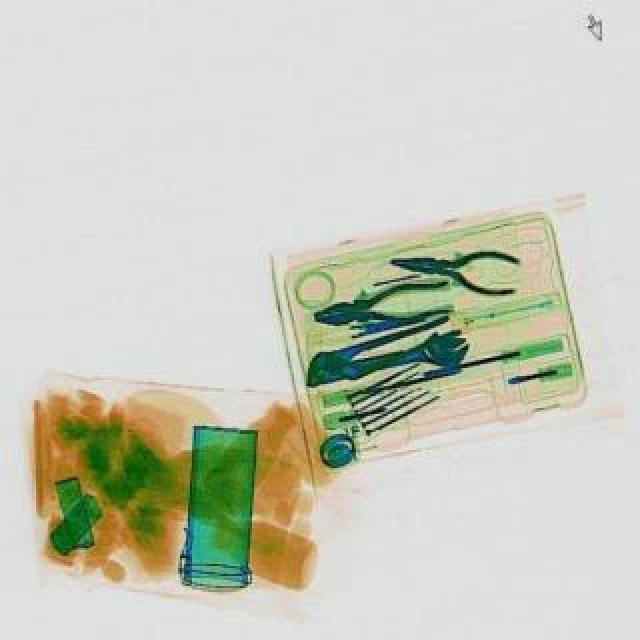scissors: (314, 330, 478, 400)
wrench: (312, 280, 456, 338), (390, 240, 522, 300)
